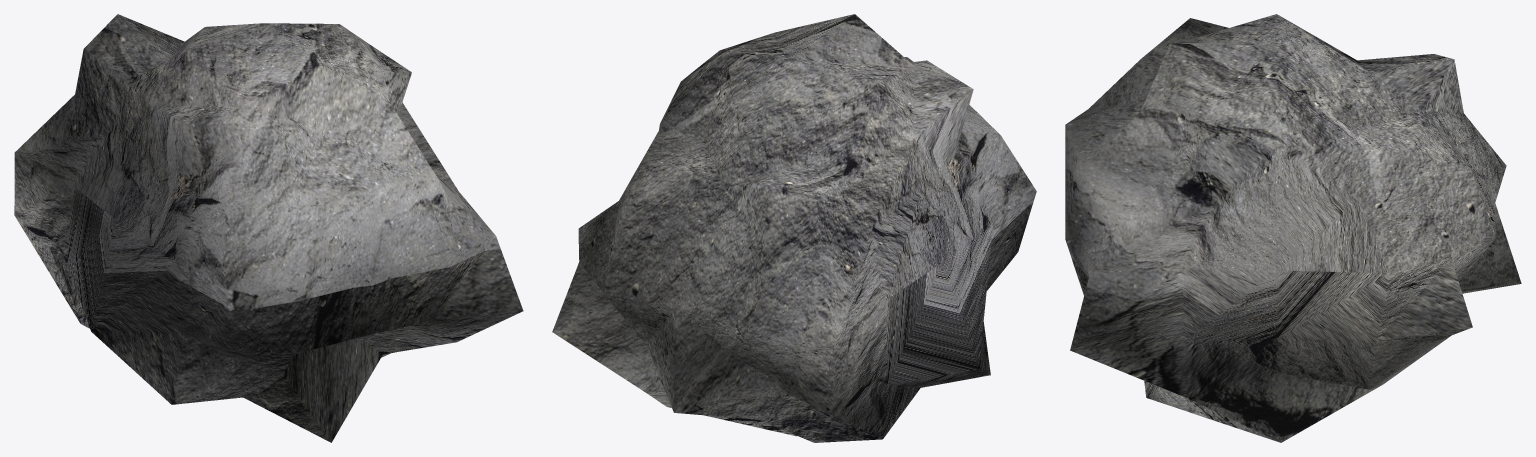
The model's file is rock.FBX.
3 renders of one model, left to right at view 1: azimuth 30°, elevation 25°; view 2: azimuth 150°, elevation 25°; view 3: azimuth 270°, elevation 25°, orthographic. The views are drawn at different scales.
Visible parts, largest first — view 1: Box001; view 2: Box001; view 3: Box001.
Boxes of the visible parts, bbox=[...] form: Box001: bbox=[14, 14, 523, 442]; Box001: bbox=[552, 14, 1036, 442]; Box001: bbox=[1065, 14, 1521, 442].
Size of the model in its own units: 85.46 by 106 by 91.3.
1 material, 1 textured.
